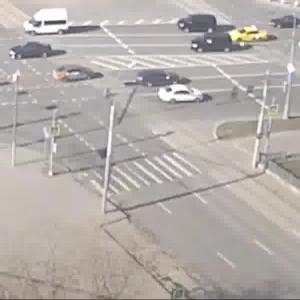car: (19, 11, 76, 35), (188, 30, 237, 54), (152, 87, 197, 108), (11, 39, 53, 61), (57, 65, 100, 84), (133, 70, 180, 87), (181, 16, 222, 34), (231, 25, 266, 40), (268, 17, 300, 31)
